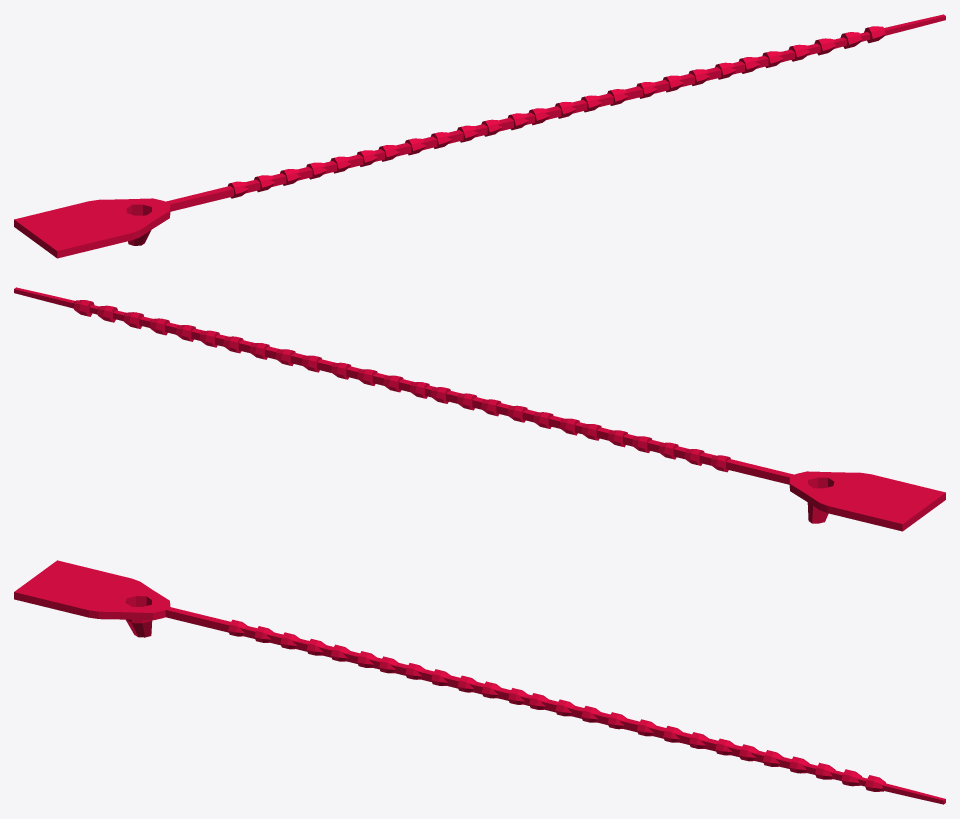
Rendered from Sello.fbx.
The picture shows the model from 3 angles, top to bottom: view 1: azimuth 30°, elevation 25°; view 2: azimuth 150°, elevation 25°; view 3: azimuth 330°, elevation 25°; orthographic projection.
Visible parts, largest first — view 1: Plane; view 2: Plane; view 3: Plane.
Part boxes in pixels (x1,y1,x2,y2): Plane: (14,14,945,258); Plane: (14,287,945,531); Plane: (14,560,945,804).
Size of the model in its own units: 20.61 by 0.8458 by 1.7.
